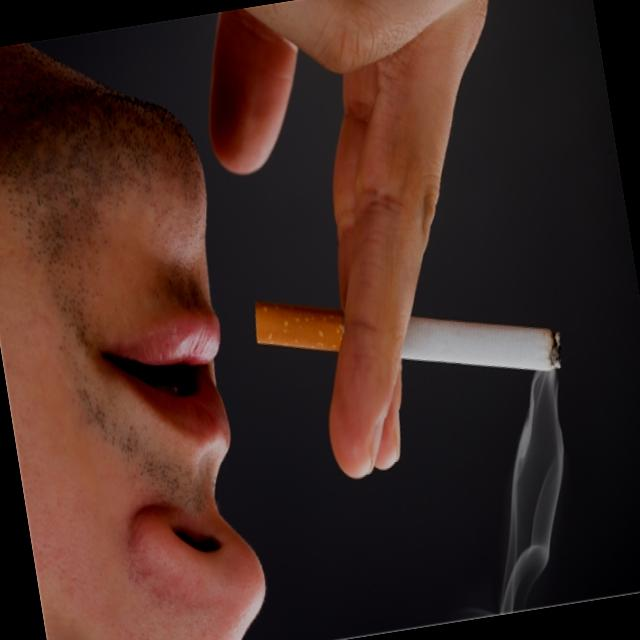cigarette: (241, 256, 568, 412)
